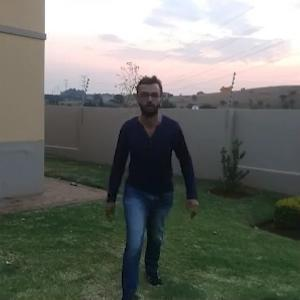follow: (109, 77, 183, 299)
